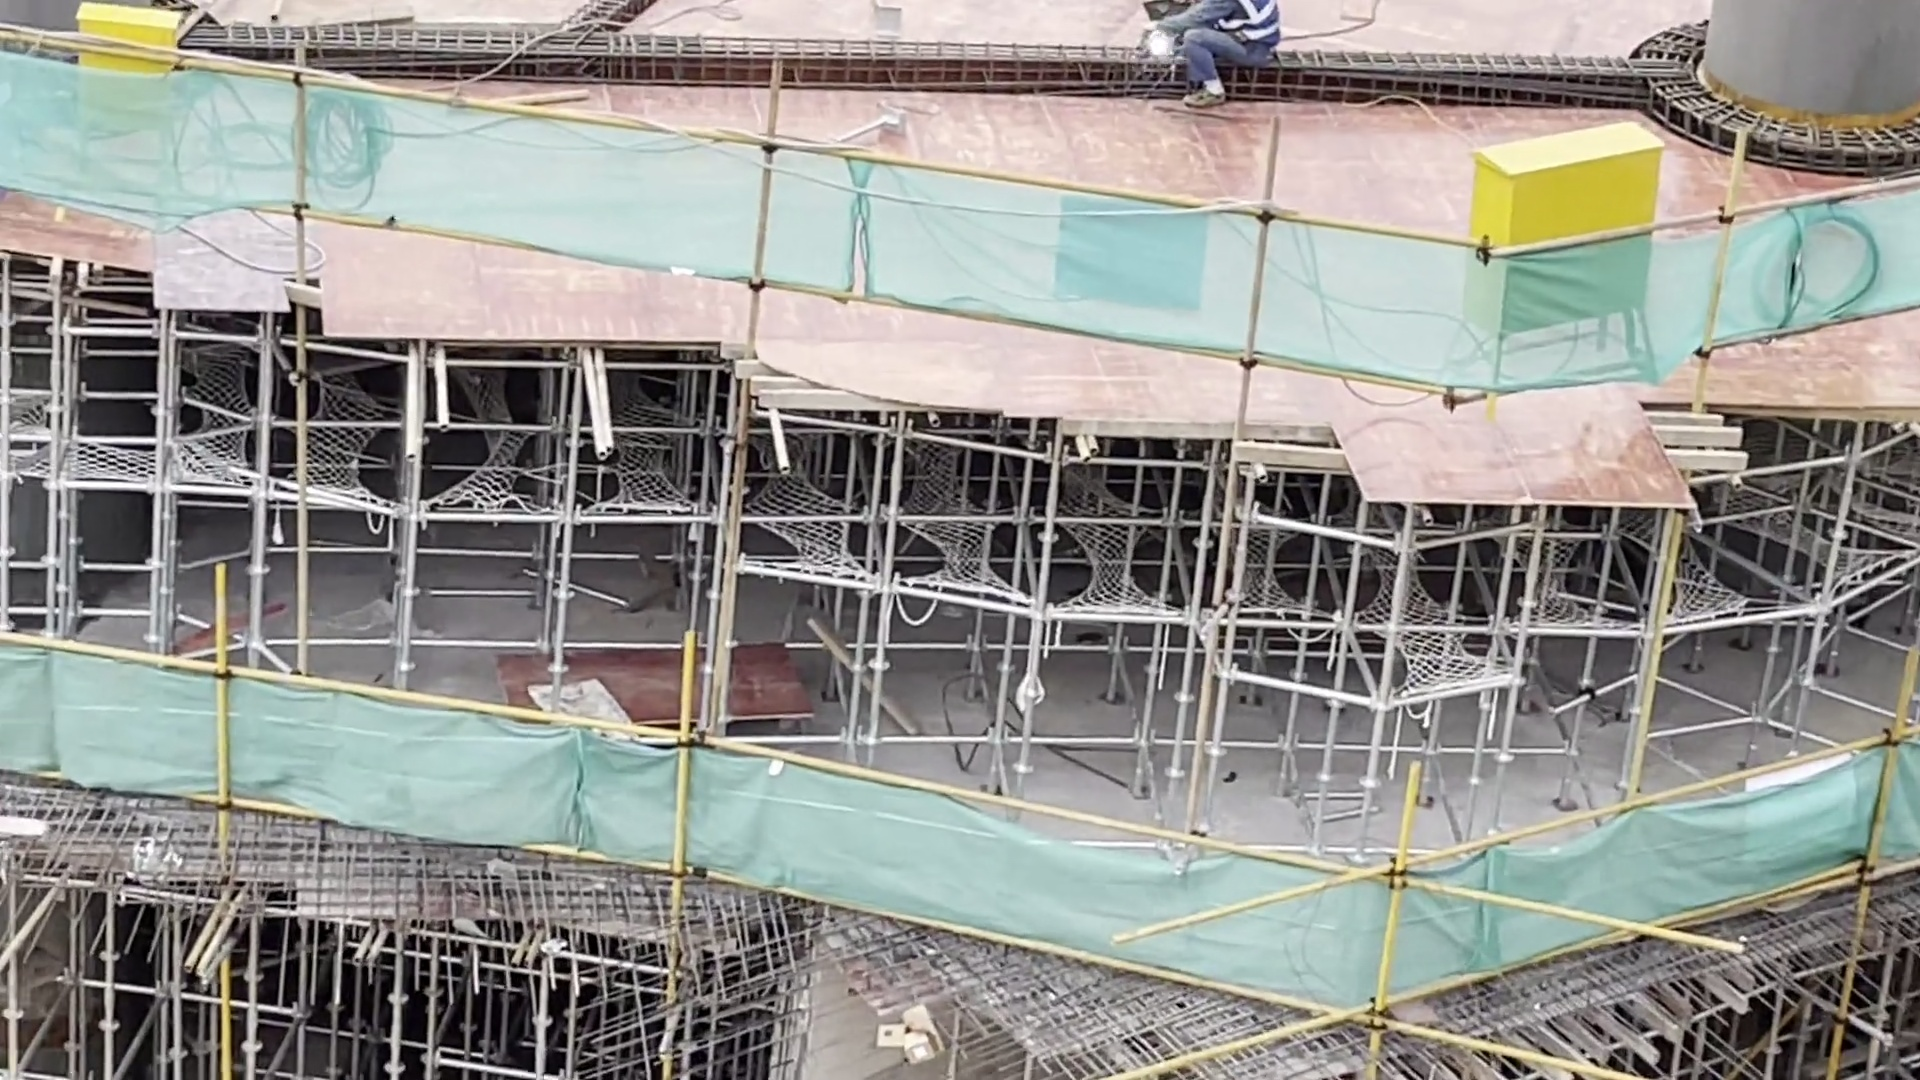ebox: (1463, 122, 1666, 335), (74, 1, 187, 110)
person: (1139, 1, 1285, 112)
vest: (1213, 1, 1282, 43)
